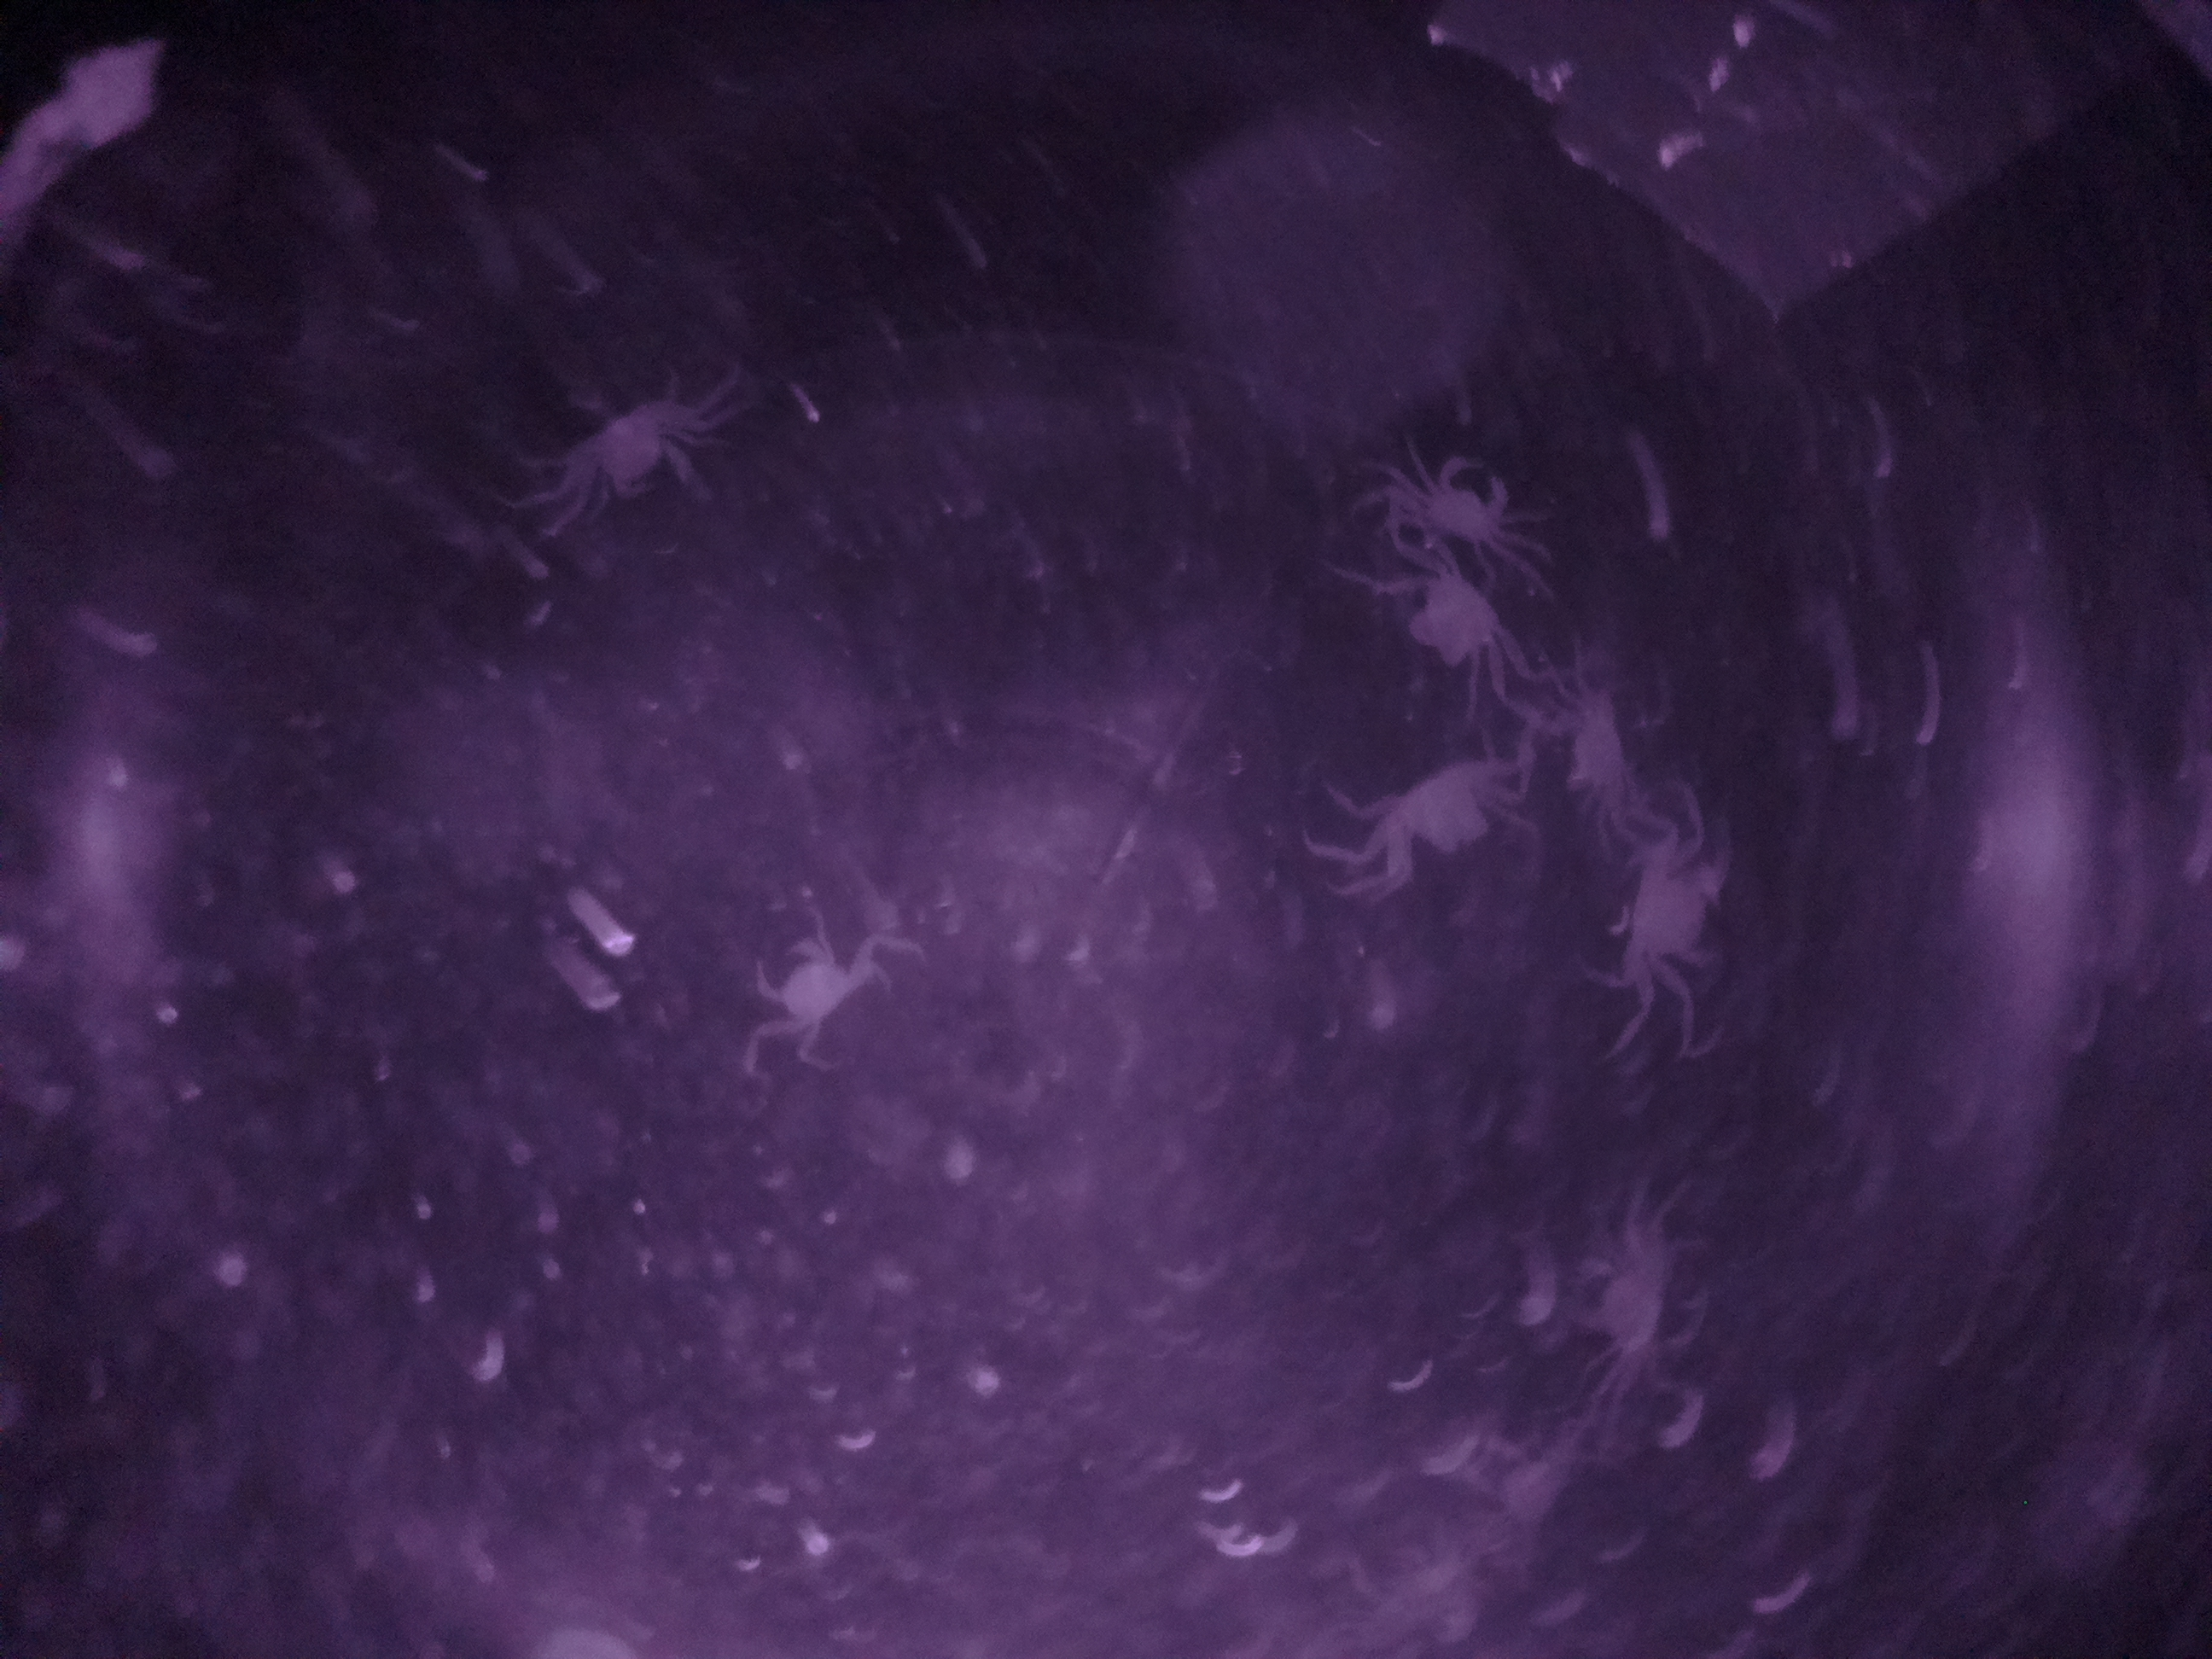Crab: (1602, 843, 1756, 988), (1395, 429, 1529, 570)
